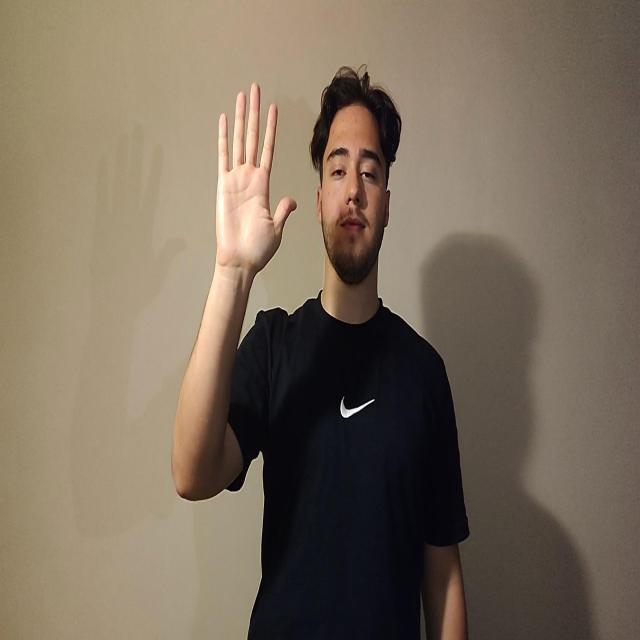hello: (214, 81, 297, 277)
